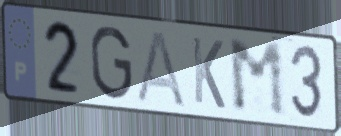2: (41, 18, 86, 99)
3: (286, 42, 325, 124)
A: (134, 28, 189, 110)
G: (88, 23, 135, 102)
K: (189, 34, 227, 112)
M: (226, 38, 289, 120)
